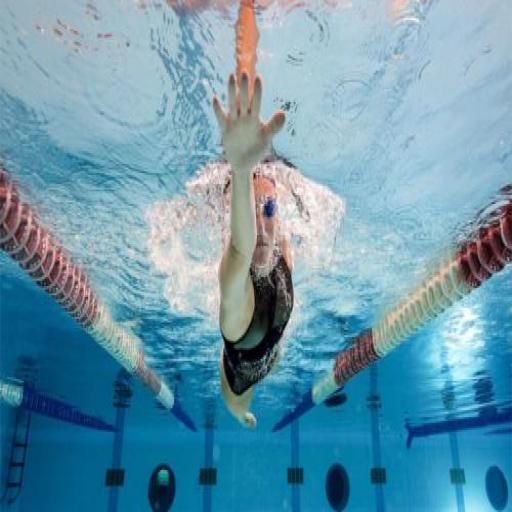swimming: (209, 69, 299, 432)
